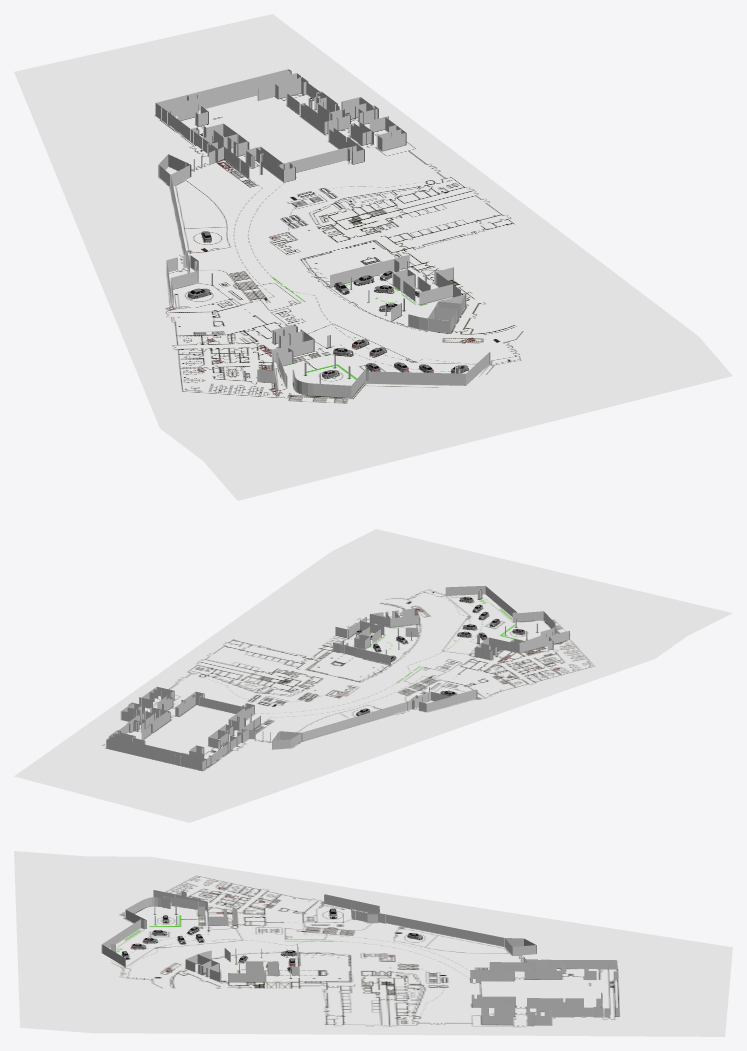
Rendered from source-level.glb.
3 renders of one model, top to bottom at view 1: azimuth 30°, elevation 25°; view 2: azimuth 150°, elevation 25°; view 3: azimuth 270°, elevation 25°, orthographic. The views are drawn at different scales.
Parts seen in each view (by area): view 1: GrundrissBMWWelt.002, Walls.002; view 2: GrundrissBMWWelt.002, Walls.002; view 3: GrundrissBMWWelt.002, Walls.002.
Boxes of the visible parts, x1,y1,x2,y2 form: GrundrissBMWWelt.002: (14,14,732,500); Walls.002: (155,69,490,397); GrundrissBMWWelt.002: (14,529,732,822); Walls.002: (106,585,569,770); GrundrissBMWWelt.002: (14,851,732,1036); Walls.002: (101,890,619,1026).
Size of the model in its own units: 138 by 3.21 by 226.
7 materials, 1 textured.
